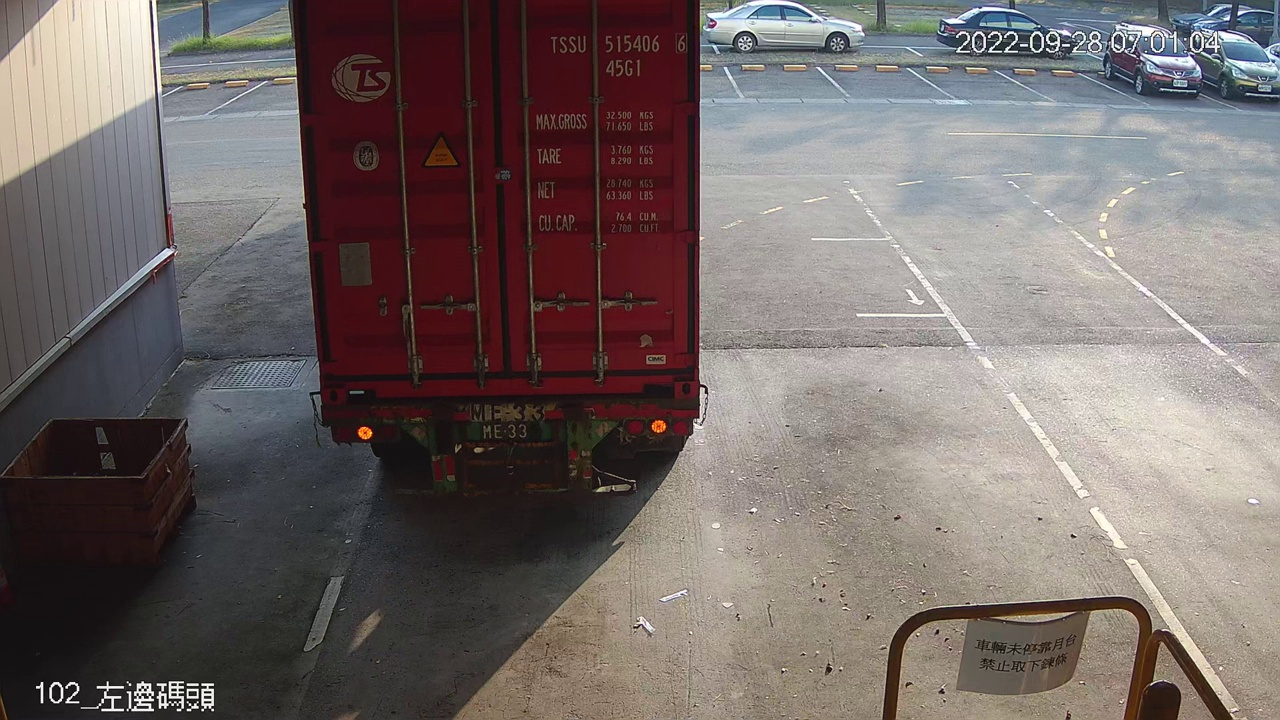container: (541, 27, 692, 83)
